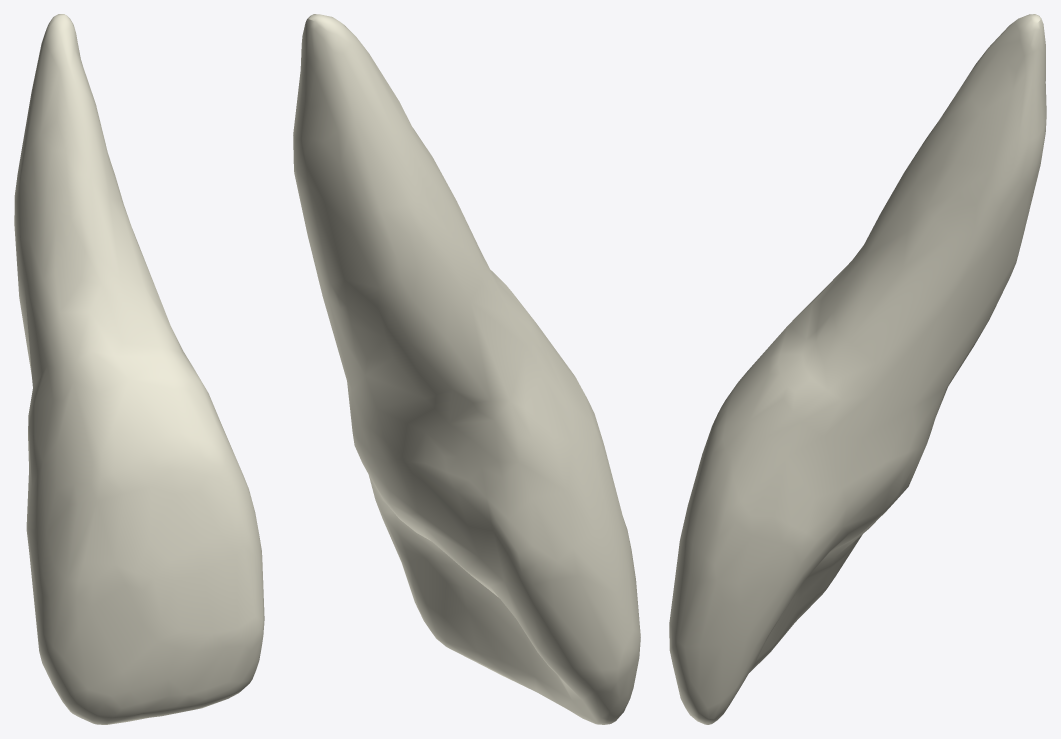
File: Right upper central incisor tooth.fbx
The picture shows the model from 3 angles, left to right: view 1: azimuth 30°, elevation 25°; view 2: azimuth 150°, elevation 25°; view 3: azimuth 270°, elevation 25°; orthographic projection. The views are drawn at different scales.
Parts seen in each view (by area): view 1: Right upper central incisor tooth; view 2: Right upper central incisor tooth; view 3: Right upper central incisor tooth.
Boxes of the visible parts, x1,y1,x2,y2 form: Right upper central incisor tooth: [14, 14, 264, 724]; Right upper central incisor tooth: [293, 14, 640, 724]; Right upper central incisor tooth: [669, 14, 1046, 724].
Size of the model in its own units: 1.18 by 3.52 by 1.71.
